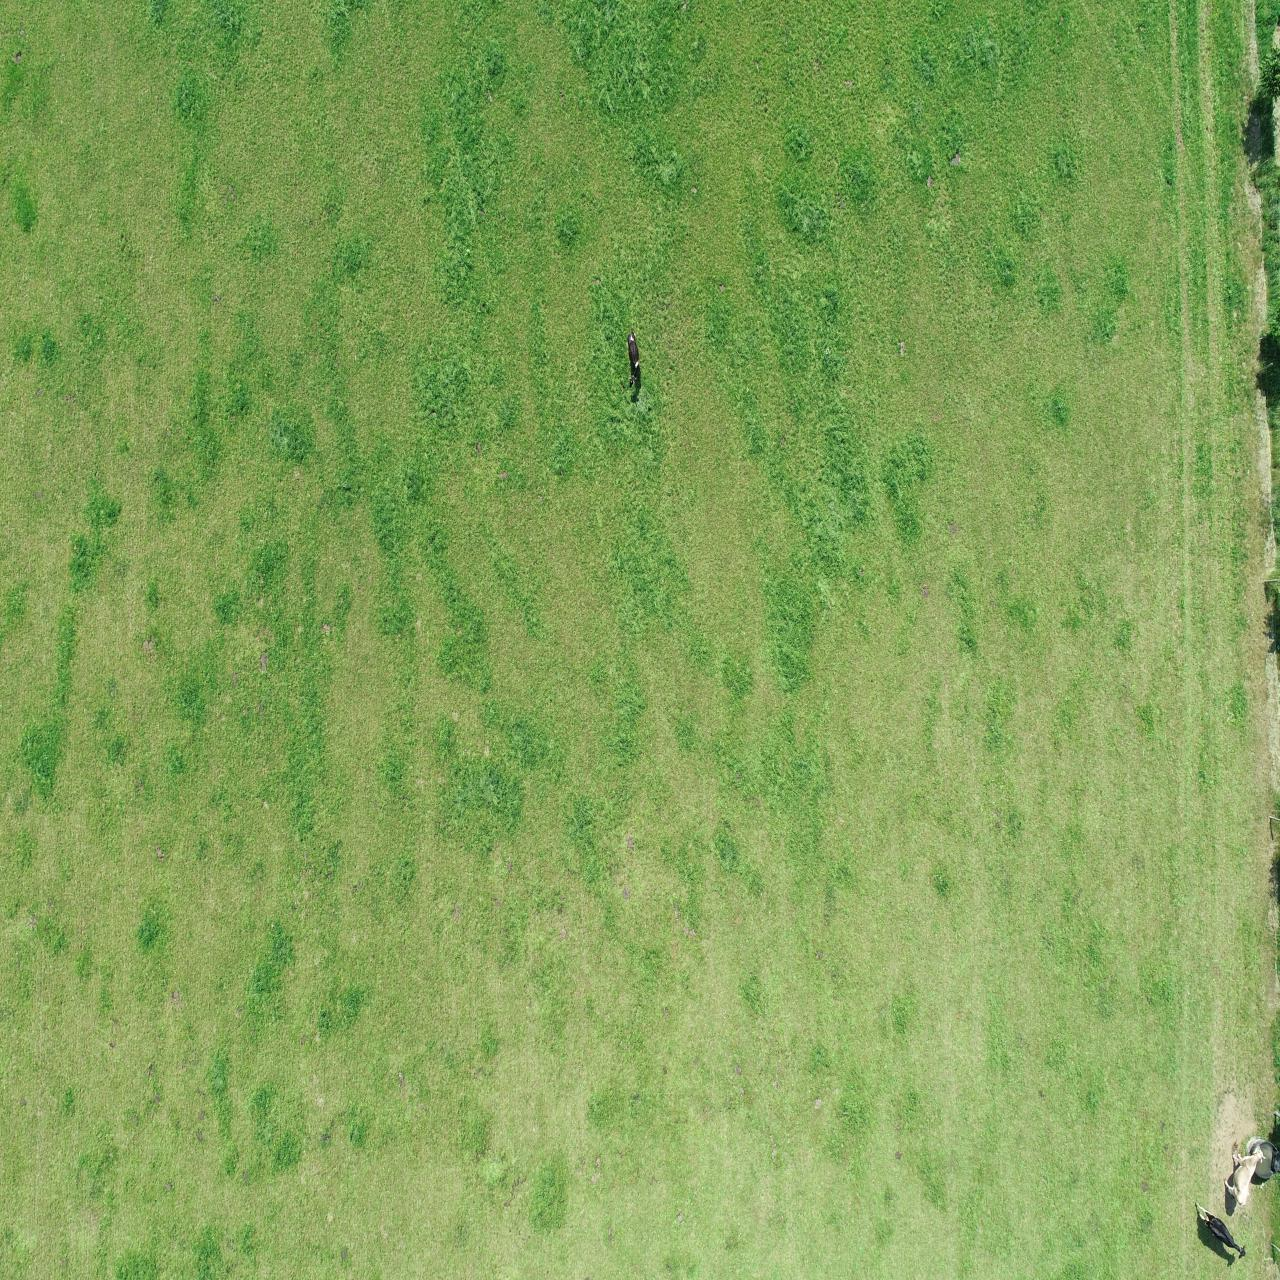cow: (1192, 1199, 1248, 1262), (1222, 1143, 1267, 1211), (625, 329, 642, 389)
